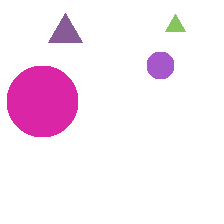circle: (7, 66, 77, 136), (147, 52, 173, 78)
triangle: (48, 13, 82, 42), (165, 14, 185, 31)
